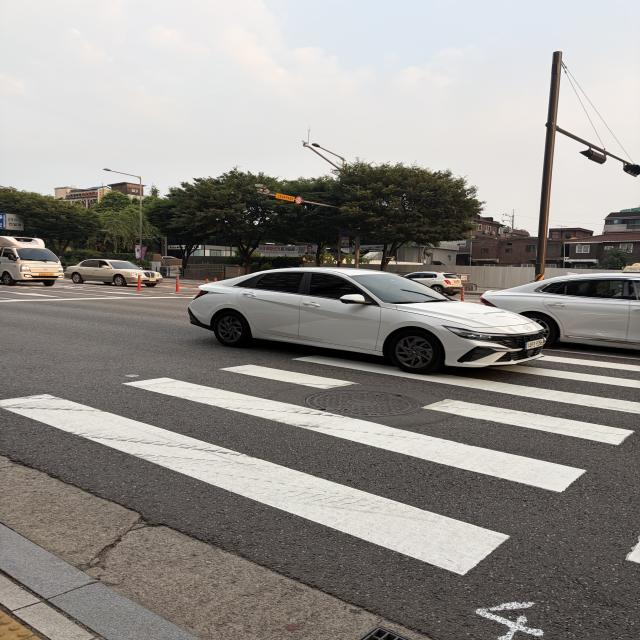car: (160, 253, 590, 398)
